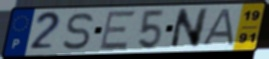2: (27, 10, 64, 54)
5: (136, 7, 166, 51)
A: (198, 8, 236, 48)
E: (97, 9, 139, 51)
N: (168, 7, 211, 50)
S: (61, 11, 96, 52)
